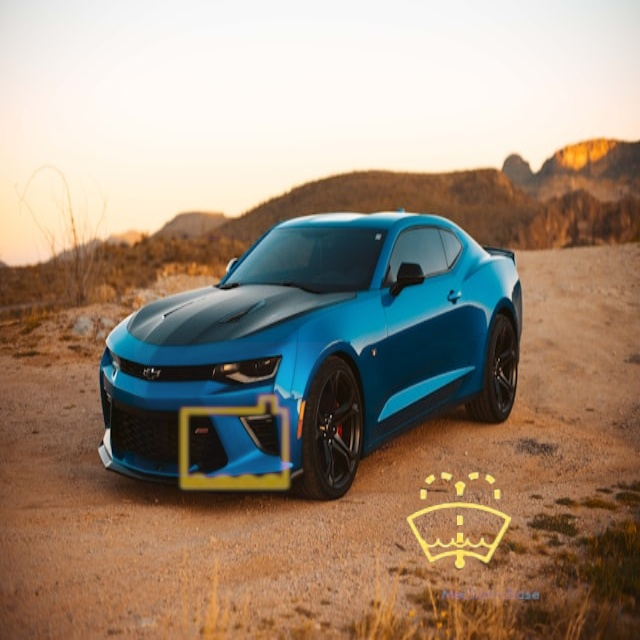symbol: (134, 342, 336, 544), (374, 436, 546, 608), (131, 117, 261, 247)
